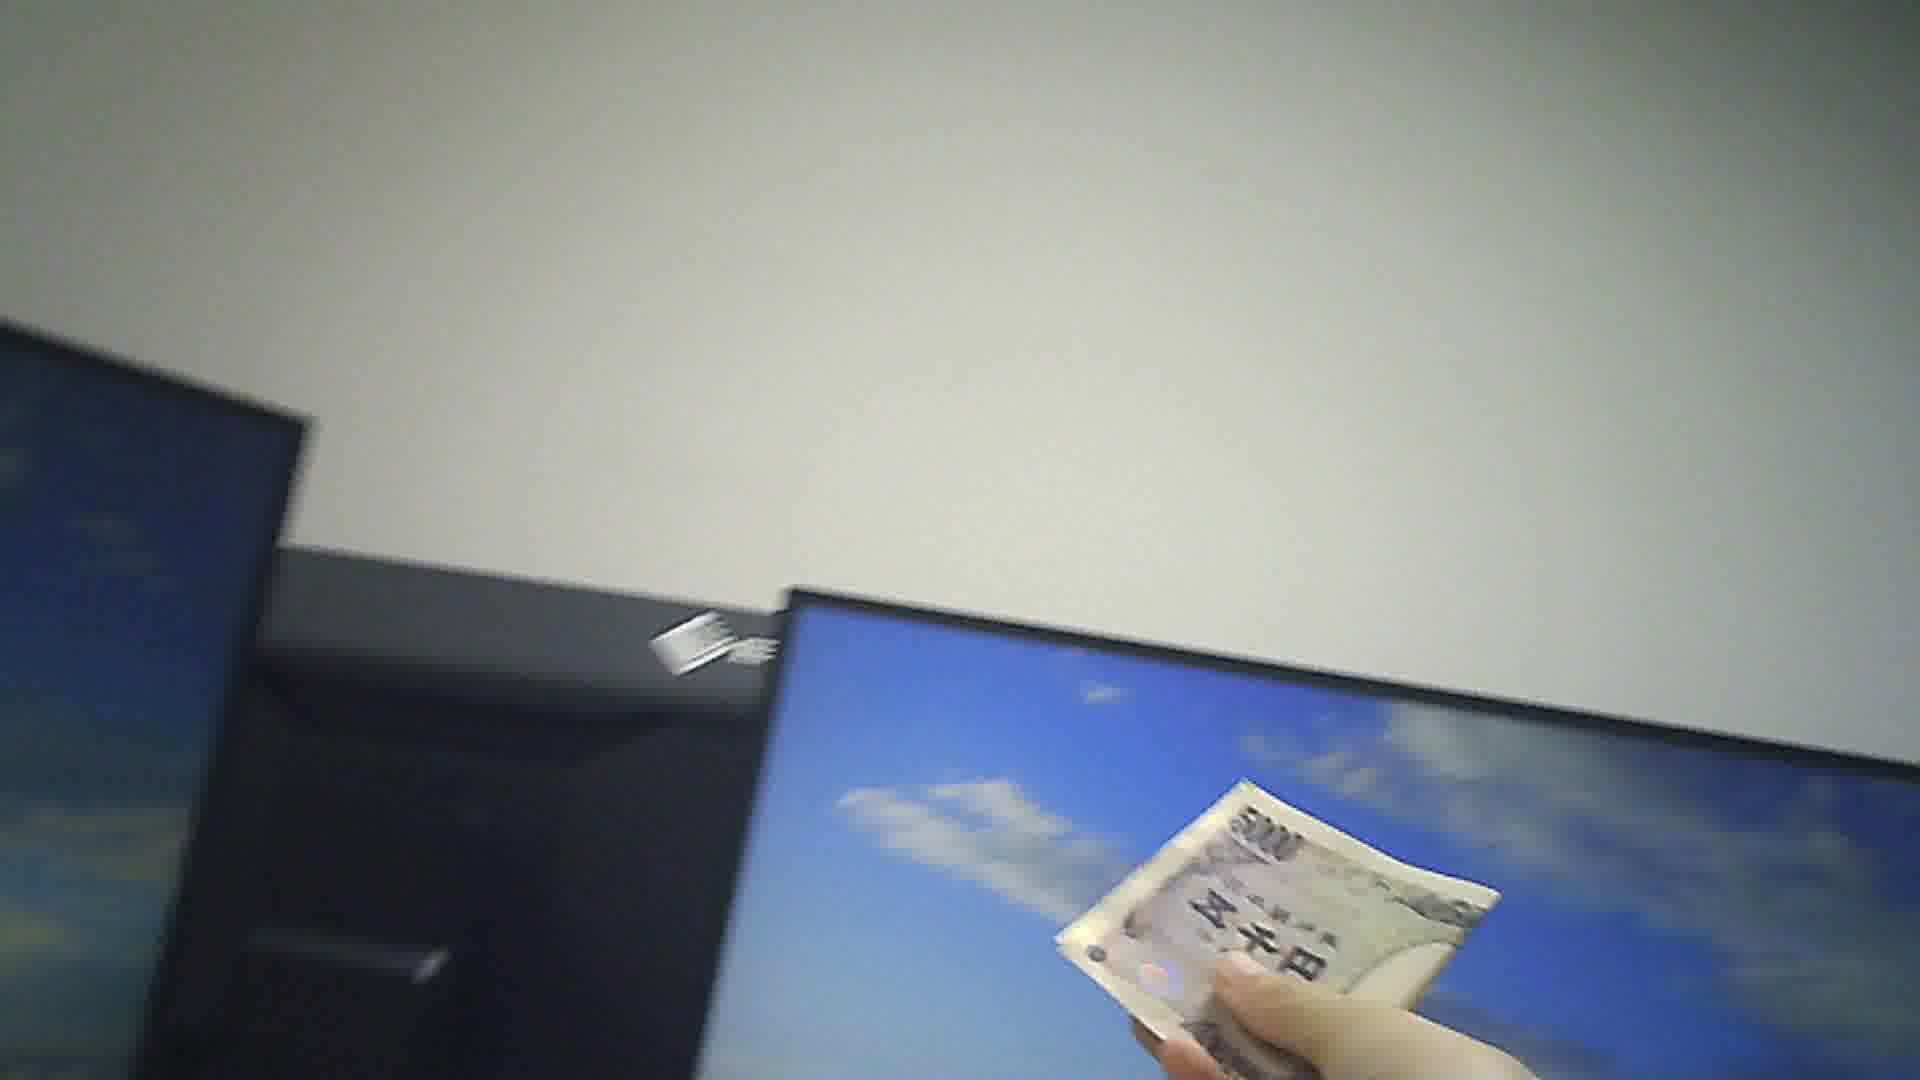5,000 Yen: (1063, 766, 1499, 1073)
